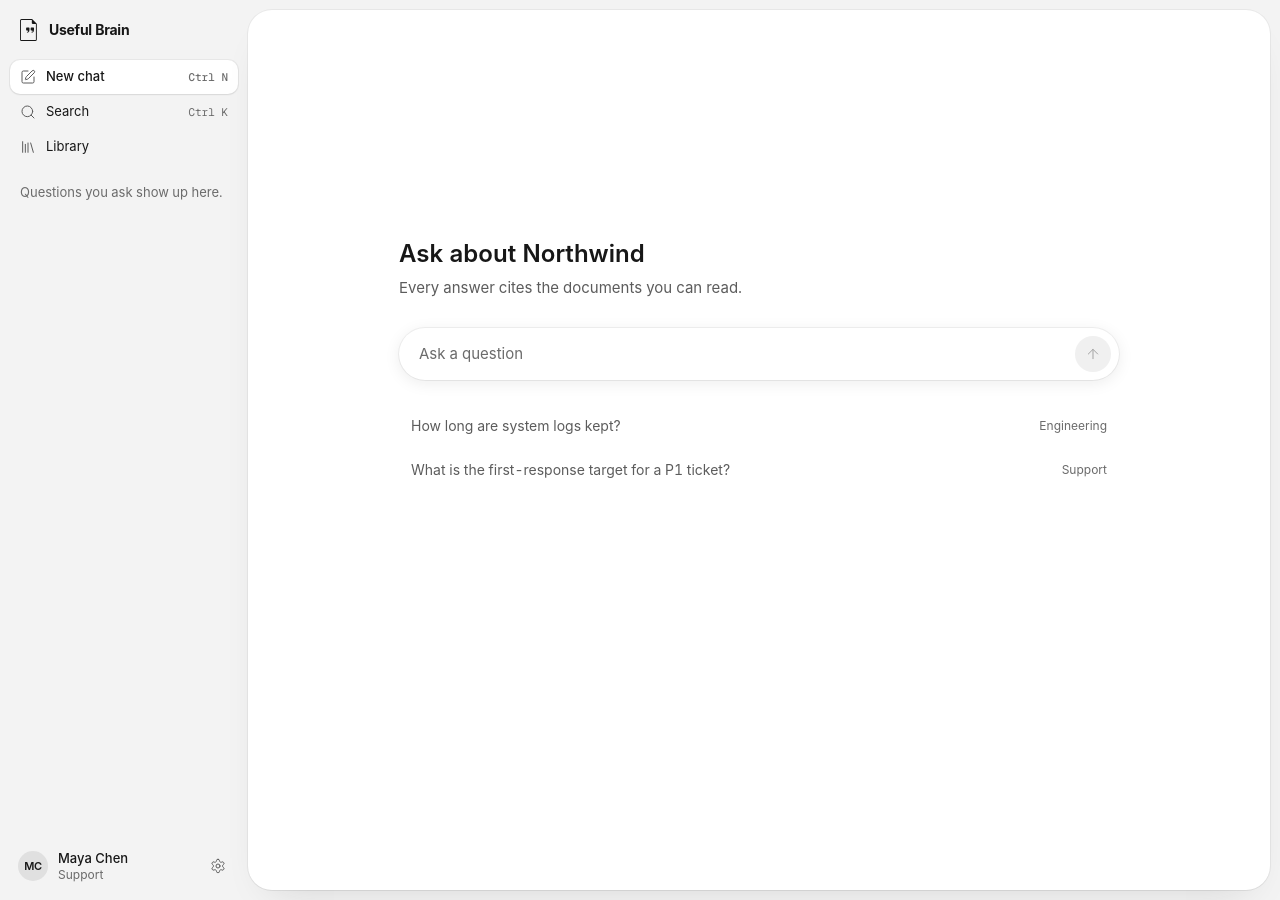
Test: empty chat › shows the heading, the composer and the asker's suggestions
Expected: the heading "Ask about Northwind" is shown, [399,239,645,268]
Expected: the text "Every answer cites the documents you can read." is shown, [399,278,742,297]
Click the button "How long are system logs kept? Engineering". click: (516,426)
box: [399,404,1119,448]
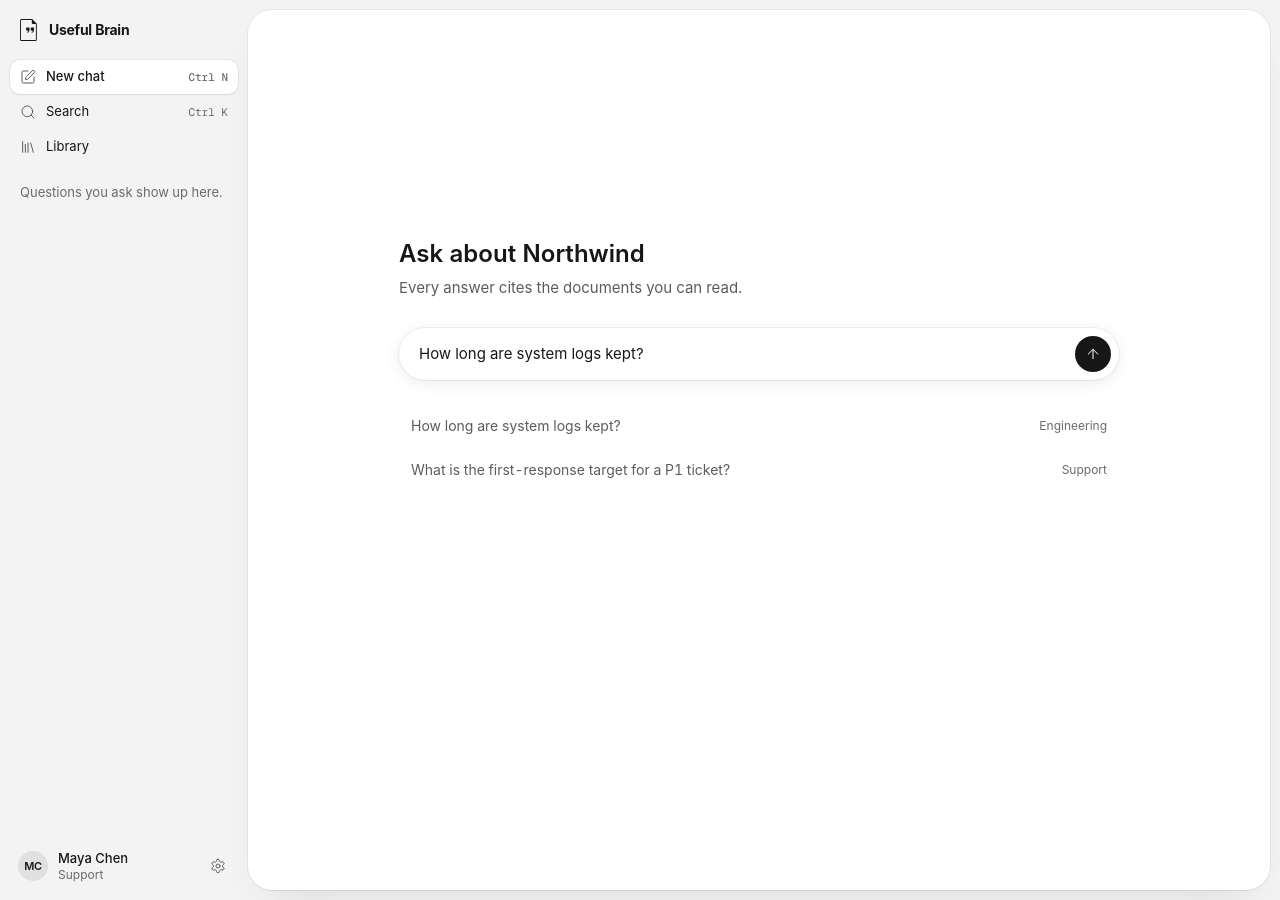
Expected: the text box named "question" holds "How long are system logs kept?", [419,342,1075,366]
